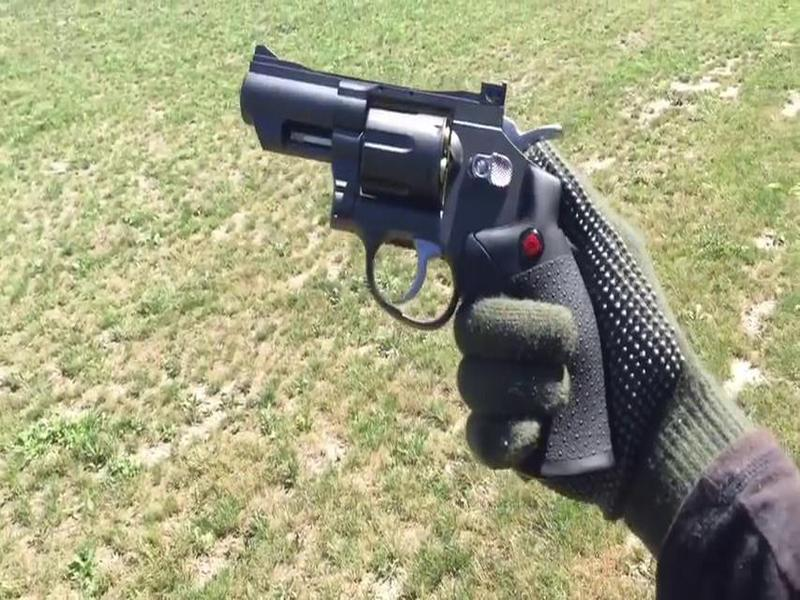Revolver: (229, 35, 620, 467)
